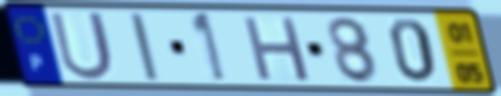0: (386, 16, 439, 86)
1: (189, 10, 230, 86)
8: (324, 14, 380, 86)
H: (239, 14, 314, 84)
I: (125, 10, 162, 83)
U: (46, 9, 117, 83)
